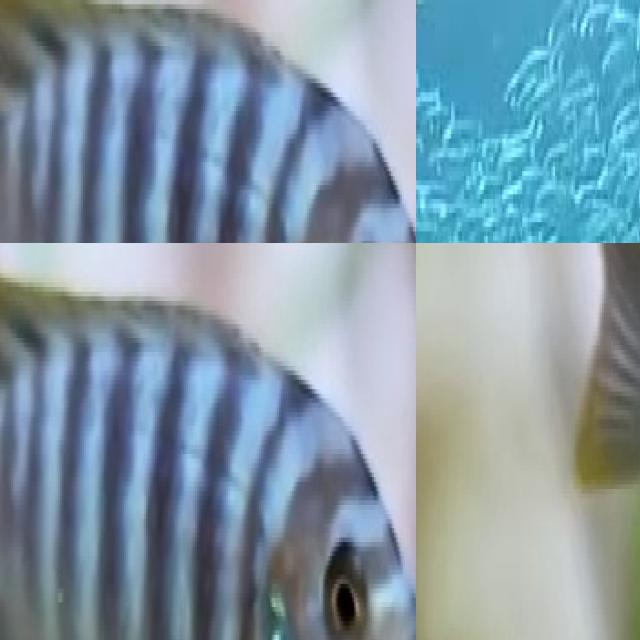fish: (0, 243, 416, 640), (0, 0, 416, 243), (569, 243, 640, 640)
